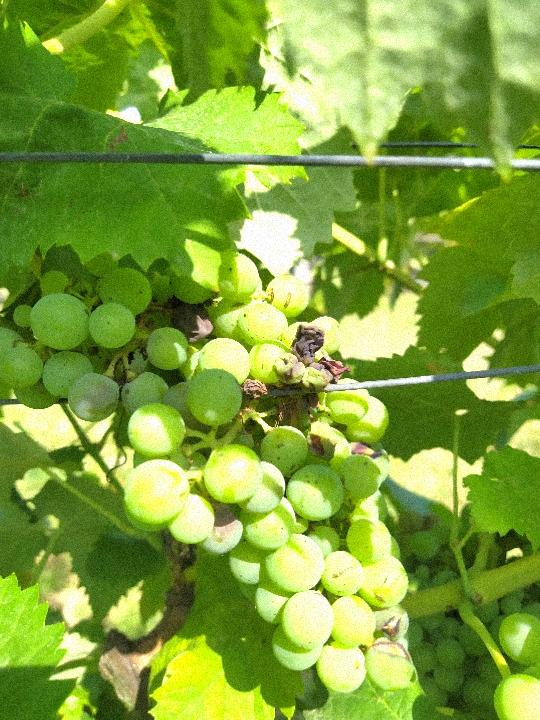grape: (3, 254, 418, 696)
